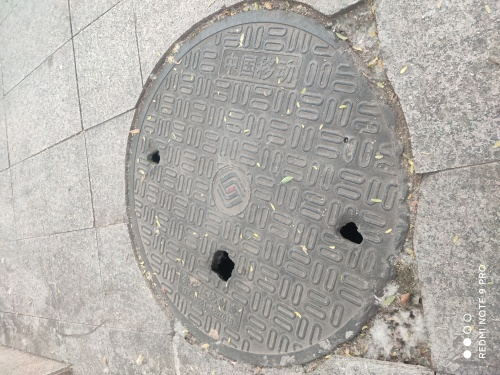broke: (126, 9, 410, 367)
